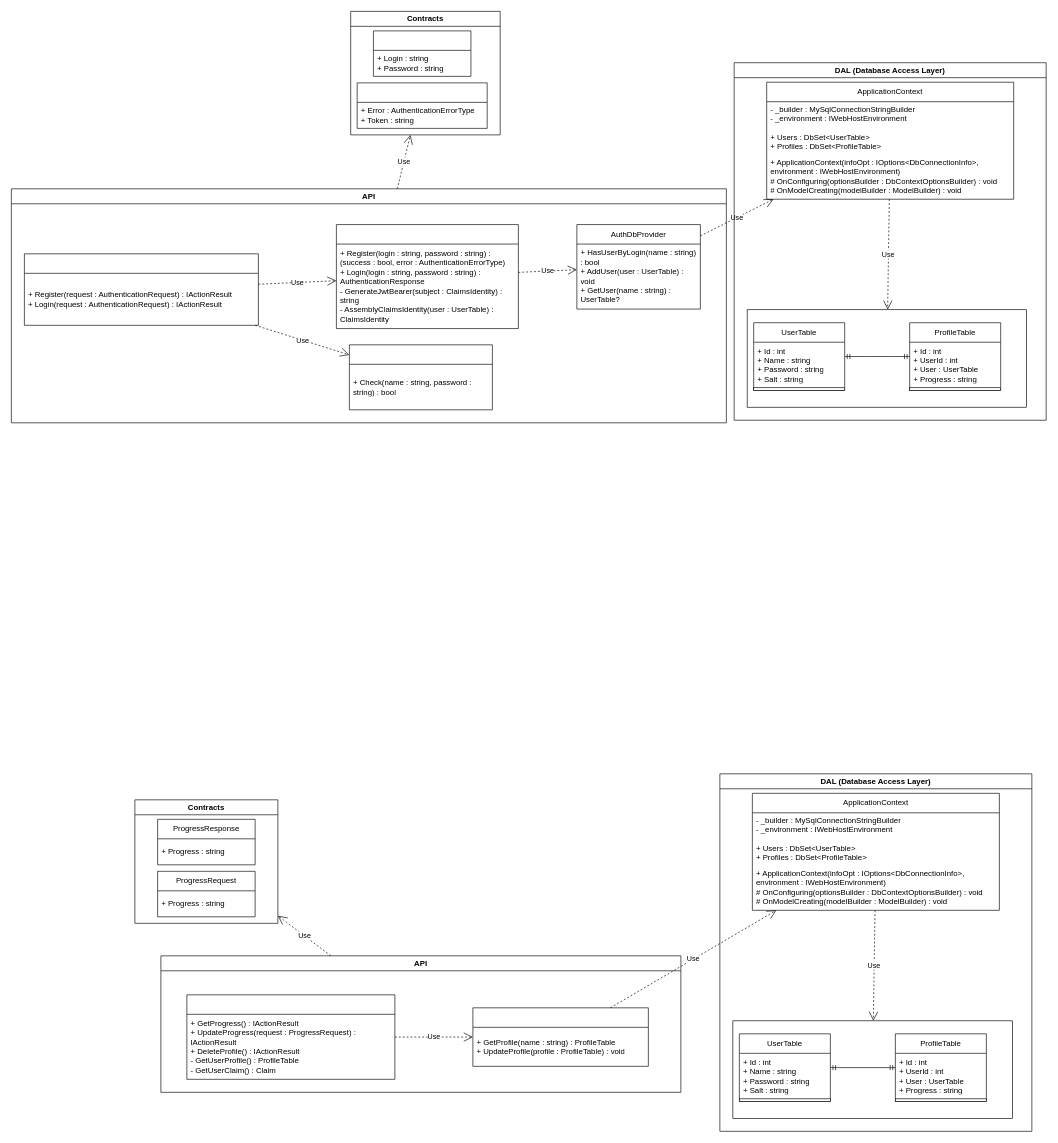
Some shapes in this 1058 by 1143 pixel diagram are drawn without their labels. Each missing label, with the box of its shape:
AuthenticationController: (24, 253, 258, 325)
AuthenticationRequest: (373, 30, 471, 76)
AuthenticationResponse: (357, 82, 487, 128)
AuthenticationService: (336, 224, 518, 329)
CheckingService: (349, 344, 492, 410)
ProfileController: (186, 994, 395, 1079)
ProfileDataProvider: (472, 1007, 648, 1066)
